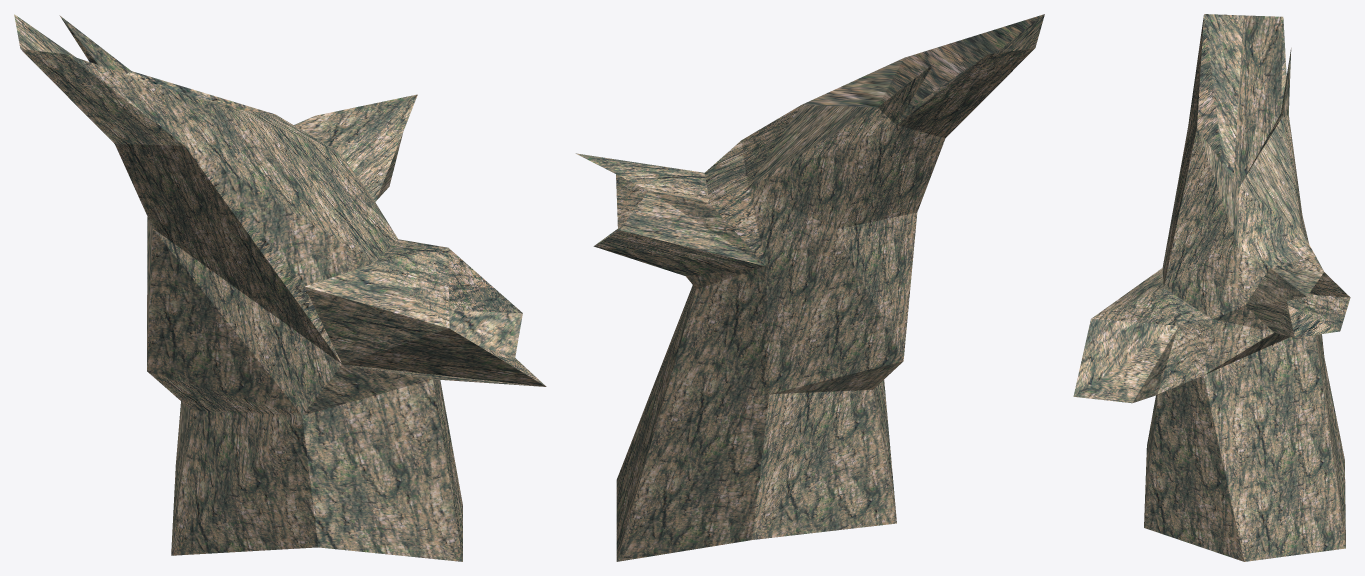
Rendered from poi_all_lair_dead_log_large_l2.fbx.
The picture shows the model from 3 angles, left to right: view 1: azimuth 30°, elevation 25°; view 2: azimuth 150°, elevation 25°; view 3: azimuth 270°, elevation 25°; orthographic projection. The views are drawn at different scales.
Visible parts, largest first — view 1: mesh_node; view 2: mesh_node; view 3: mesh_node.
Part boxes in pixels (x1,y1,x2,y2): mesh_node: [14, 14, 546, 561]; mesh_node: [575, 14, 1044, 561]; mesh_node: [1073, 14, 1350, 561].
Size of the model in its own units: 6.8 by 8.68 by 5.27.
